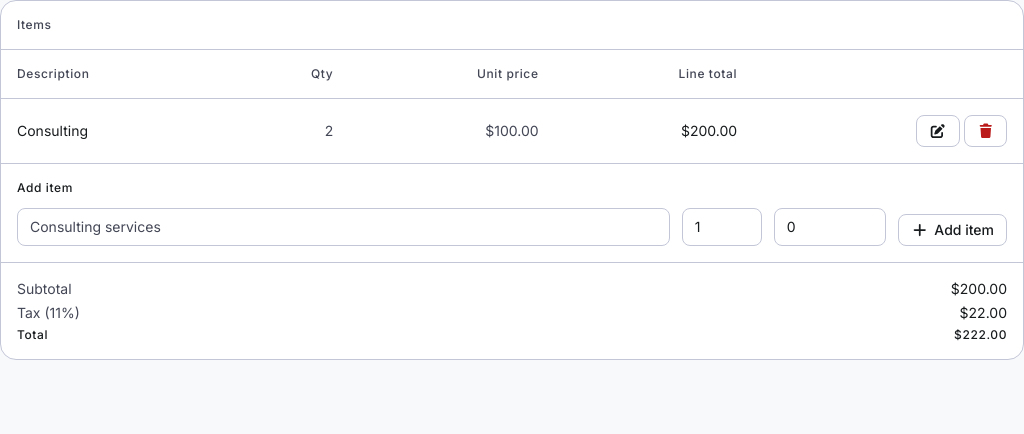
Test case: InvoiceItemsEditor — error handling › shows the ApiError message for other failures
Type "Design" into the field named "Description" at (343, 227), box [17,208,670,246]
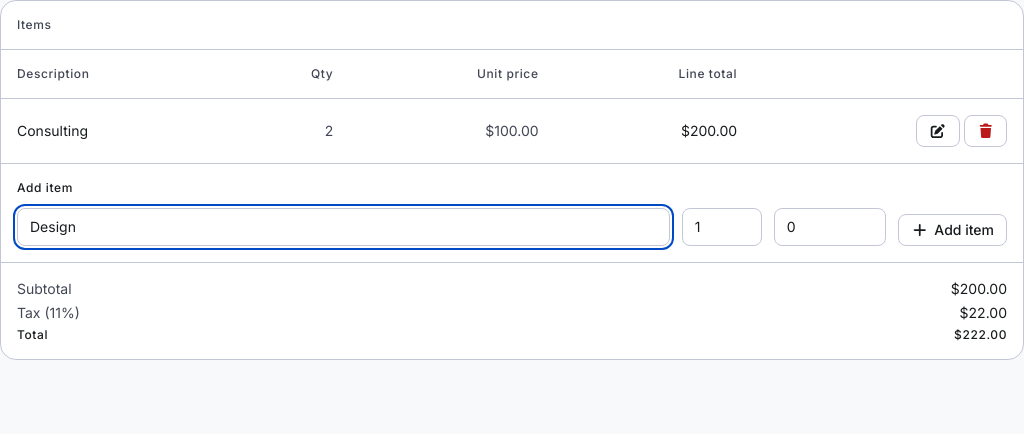
Click the button "Add item" at (952, 230), box [898,214,1007,246]
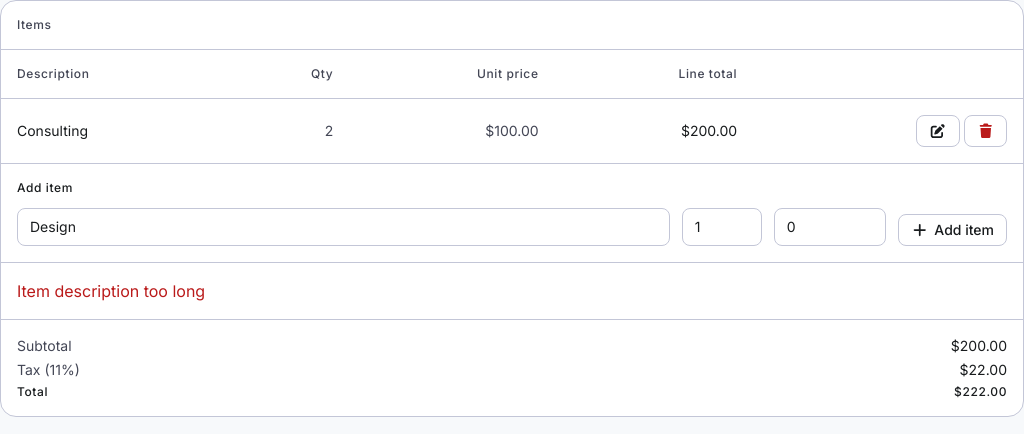
Expected: the message reads "Item description too long", [17,281,205,301]
